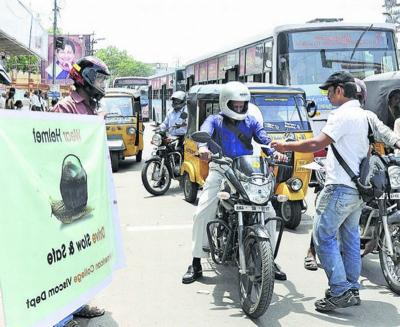With Helmet: (65, 53, 116, 103), (214, 74, 259, 122)
